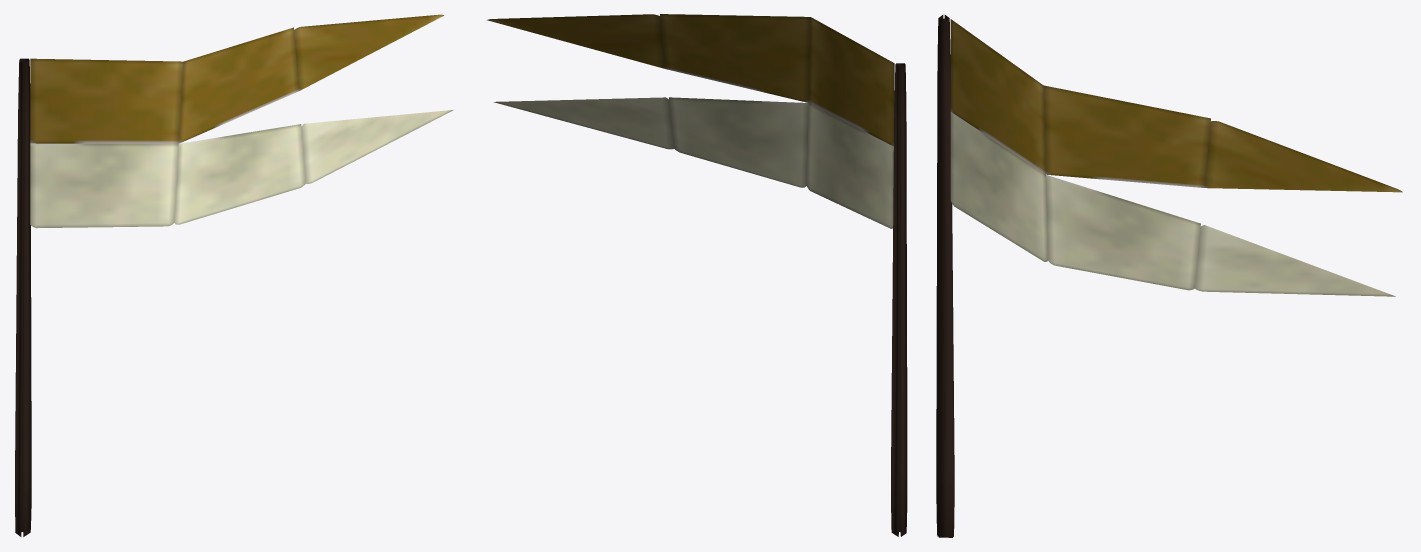
3 views of the same model, side by side, from view 1: azimuth 30°, elevation 25°; view 2: azimuth 150°, elevation 25°; view 3: azimuth 330°, elevation 25° (orthographic). The views are drawn at different scales.
Visible parts, largest first — view 1: T1L3M000_19; view 2: T1L3M000_19; view 3: T1L3M000_19.
Boxes of the visible parts, bbox=[...] form: T1L3M000_19: bbox=[15, 14, 453, 536]; T1L3M000_19: bbox=[487, 14, 907, 536]; T1L3M000_19: bbox=[936, 15, 1402, 537].
Size of the model in its own units: 1.73 by 1.83 by 0.2752.
